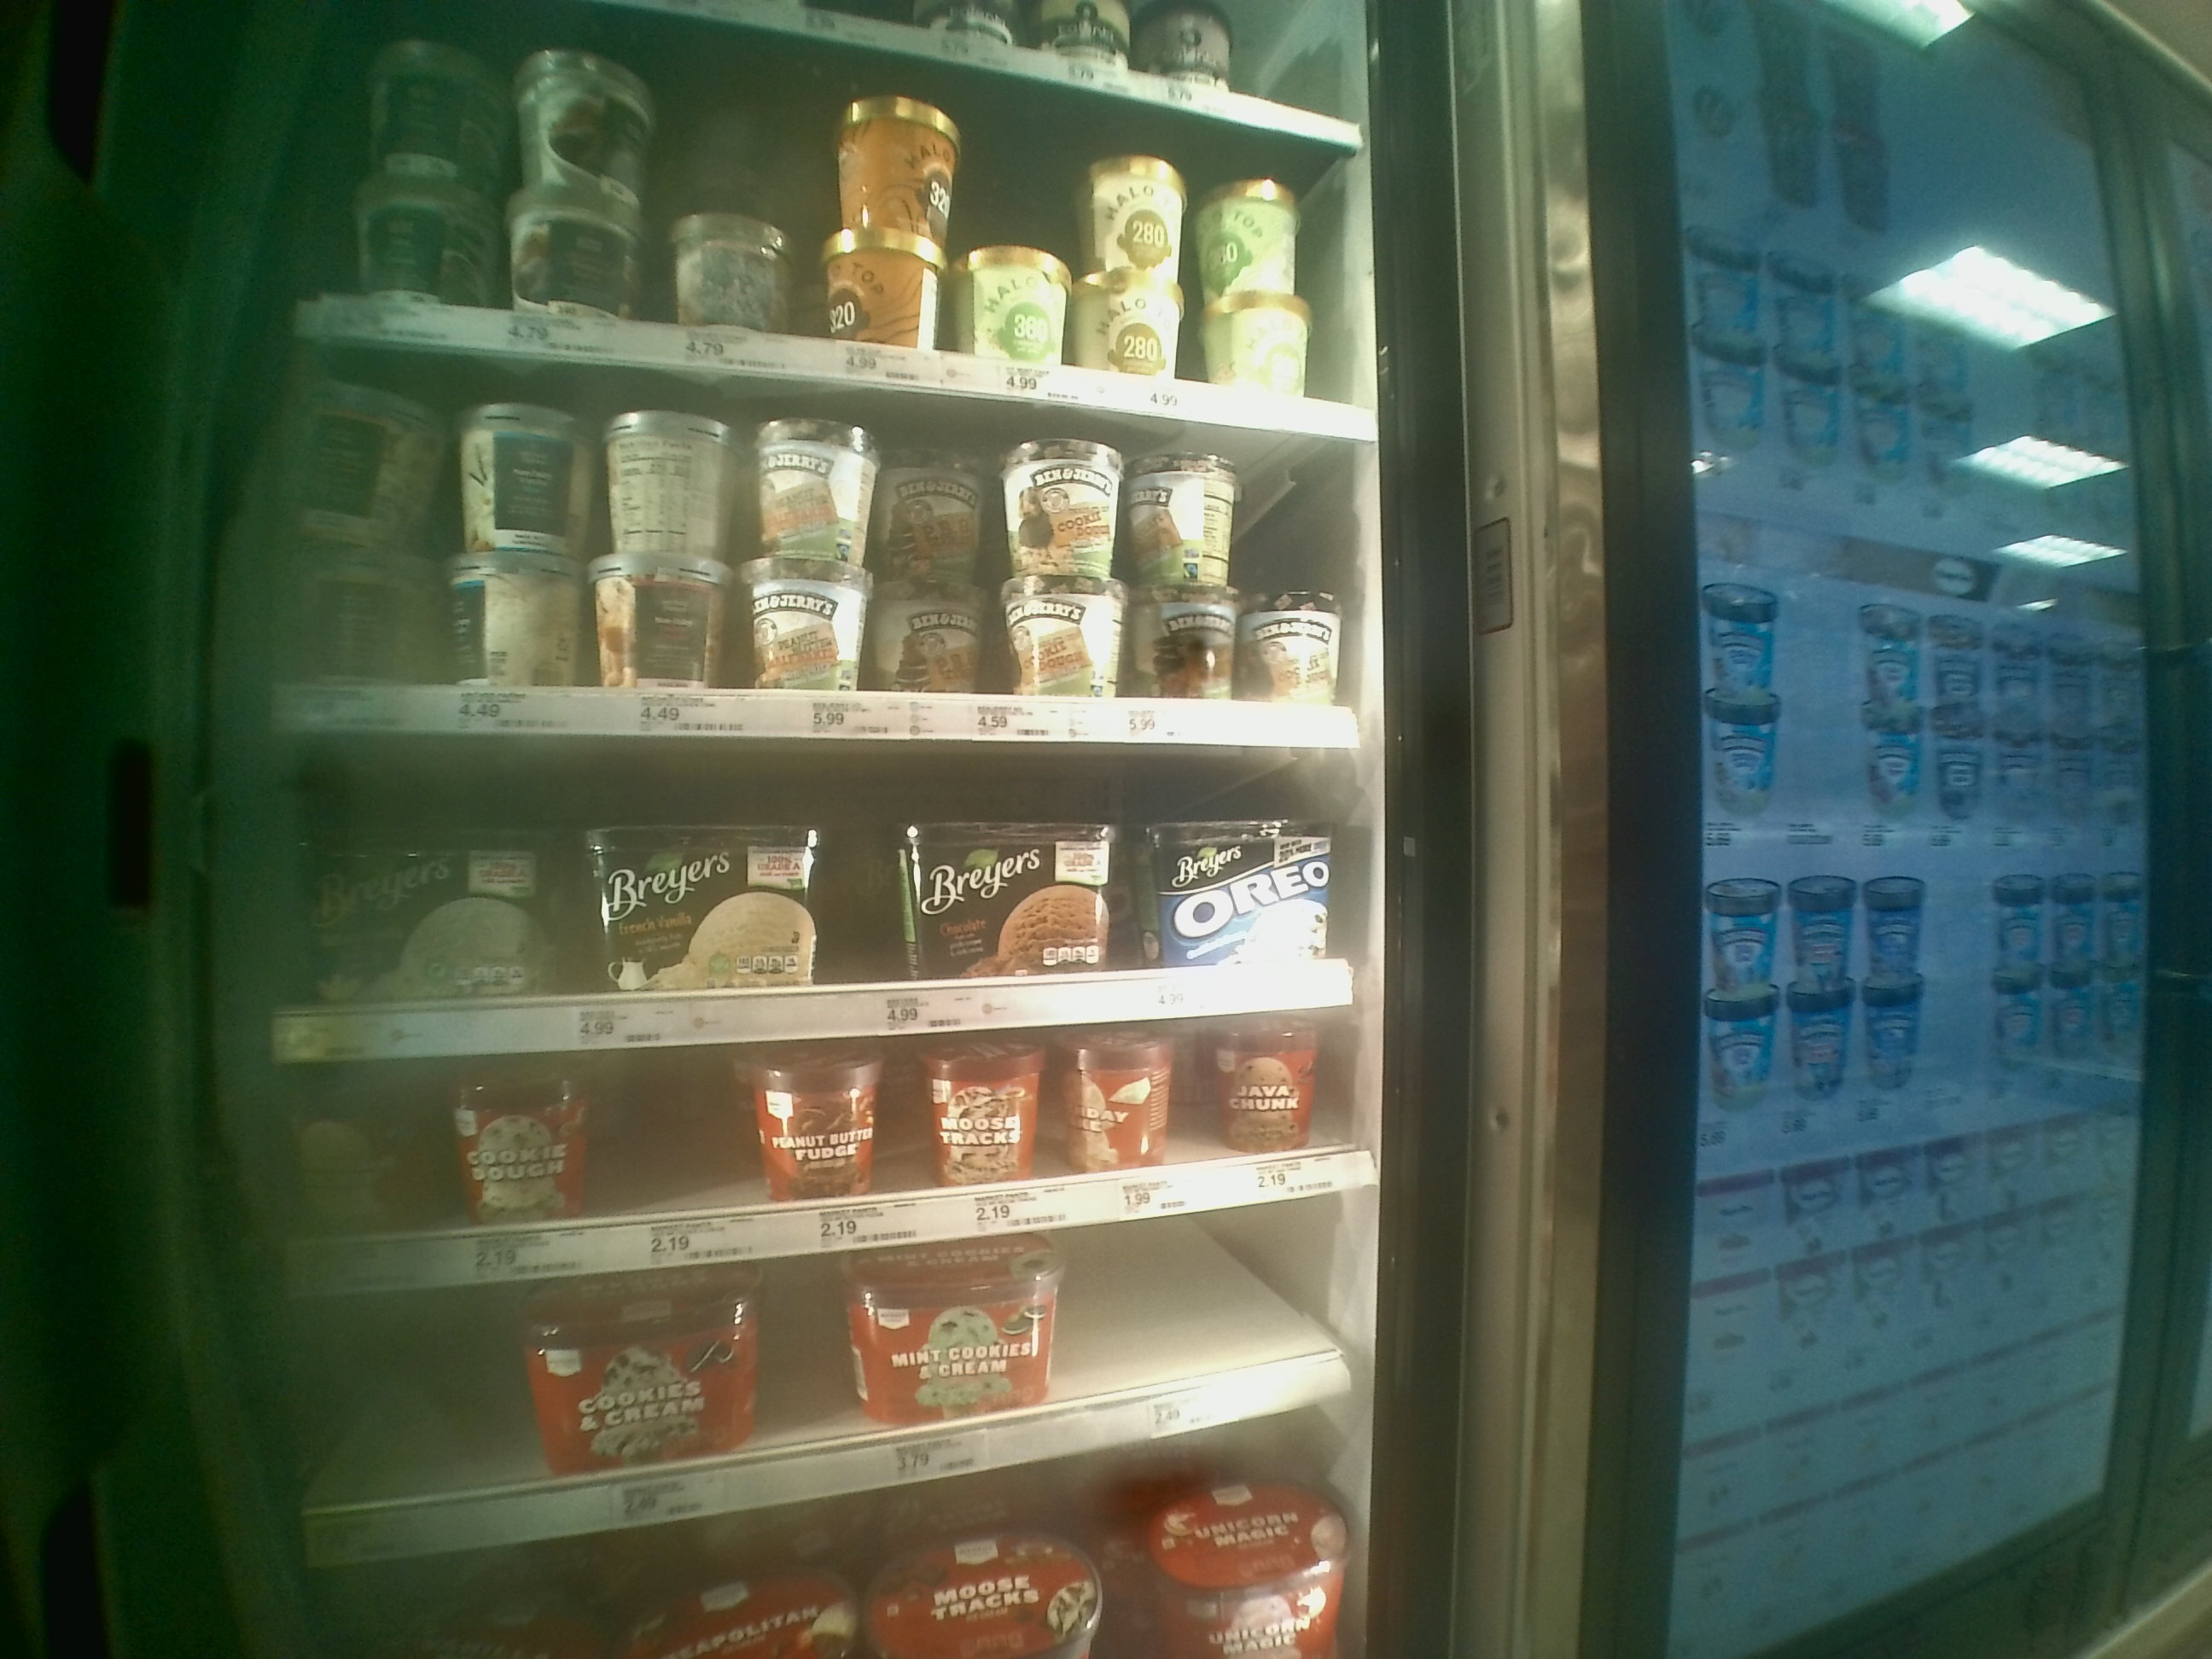shelf: (280, 399, 1350, 737), (275, 730, 1359, 1026), (280, 1002, 1413, 1267)
